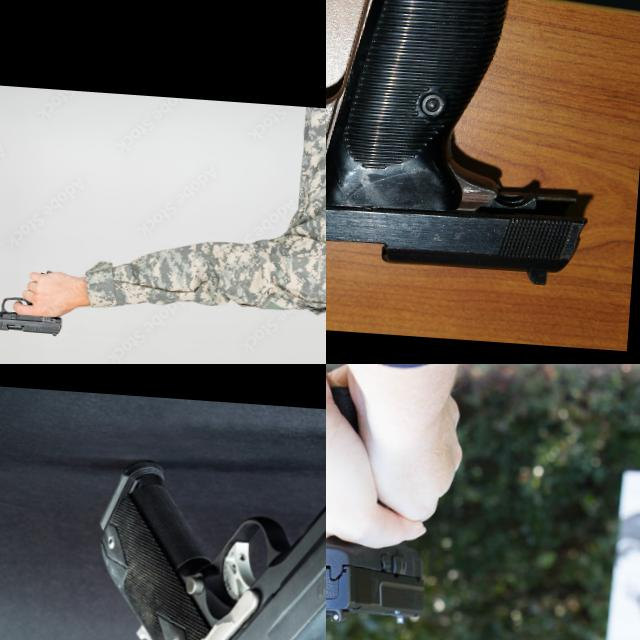handgun: (326, 0, 630, 293), (76, 409, 326, 640), (326, 527, 431, 630), (0, 291, 64, 337)
